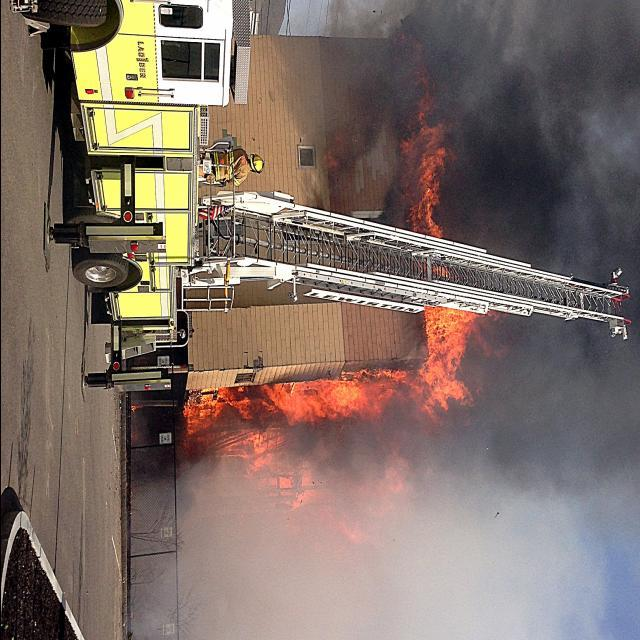Fire: (176, 376, 422, 488), (408, 92, 466, 230), (423, 318, 471, 432)
